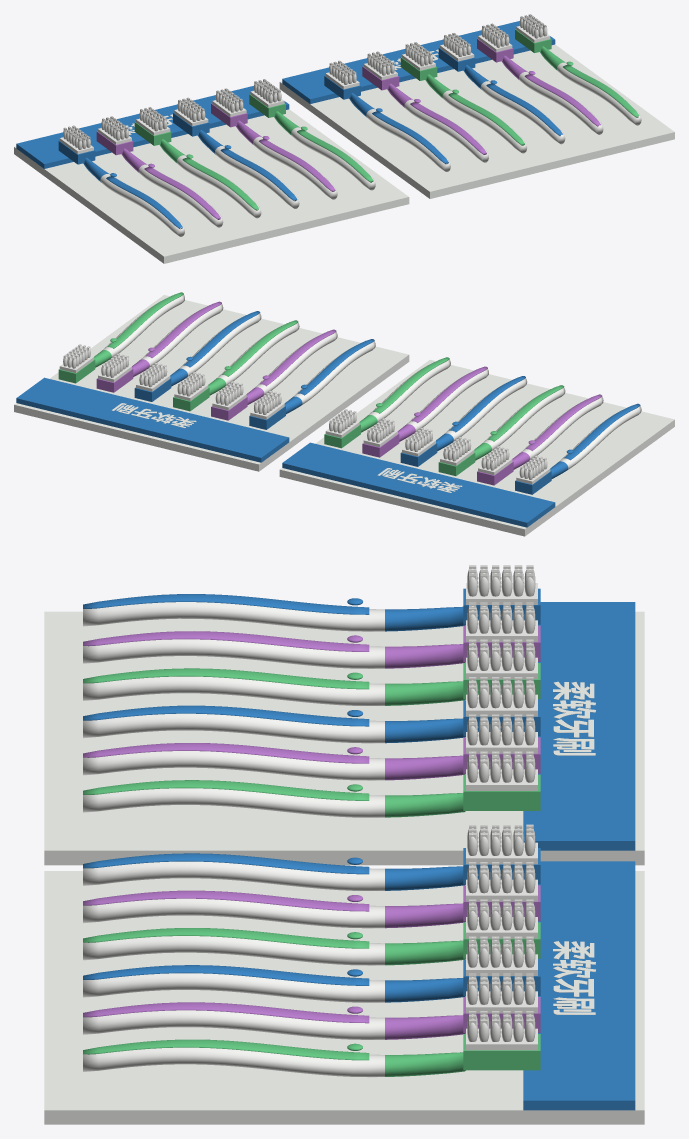
File: brushes.glb
The picture shows the model from 3 angles, top to bottom: view 1: azimuth 30°, elevation 25°; view 2: azimuth 150°, elevation 25°; view 3: azimuth 270°, elevation 25°; orthographic projection. The views are drawn at different scales.
Parts seen in each view (by area): view 1: Board 1 backing, Board 2 backing, Board 1 header, Board 2 header, Brush 2.6 rounded handle, Brush 1.3 rounded handle, Brush 1.1 rounded handle, Brush 2.4 rounded handle, Brush 2.1 rounded handle, Brush 1.5 rounded handle, Brush 2.2 rounded handle, Brush 1.6 rounded handle (+28 smaller); view 2: Board 2 backing, Board 1 backing, Board 1 header, Board 2 header, Brush 1.1 rounded handle, Brush 2.2 rounded handle, Brush 2.4 rounded handle, Brush 1.2 rounded handle, Brush 2.1 rounded handle, Brush 2.3 rounded handle, Brush 1.3 rounded handle, Brush 1.6 rounded handle (+30 smaller); view 3: Board 2 backing, Board 1 backing, Board 2 header, Board 1 header, Brush 2.5 rounded handle, Brush 2.1 rounded handle, Brush 1.3 rounded handle, Brush 2.2 rounded handle, Brush 1.4 rounded handle, Brush 2.6 rounded handle, Brush 1.1 rounded handle, Brush 1.2 rounded handle (+25 smaller).
Boxes of the visible parts, left/top/right/bottom form: Board 1 backing: left=14, top=109, right=409, bottom=263; Board 2 backing: left=279, top=44, right=674, bottom=198; Board 1 header: left=16, top=86, right=289, bottom=168; Board 2 header: left=282, top=21, right=555, bottom=103; Brush 2.6 rounded handle: left=540, top=46, right=641, bottom=125; Brush 1.3 rounded handle: left=159, top=139, right=261, bottom=218; Brush 1.1 rounded handle: left=83, top=157, right=184, bottom=236; Brush 2.4 rounded handle: left=463, top=65, right=565, bottom=144; Brush 2.1 rounded handle: left=349, top=93, right=450, bottom=171; Brush 1.5 rounded handle: left=236, top=120, right=337, bottom=199; Brush 2.2 rounded handle: left=387, top=83, right=488, bottom=162; Brush 1.6 rounded handle: left=274, top=111, right=375, bottom=190; Board 2 backing: left=14, top=295, right=409, bottom=471; Board 1 backing: left=279, top=360, right=674, bottom=536; Board 1 header: left=282, top=442, right=555, bottom=527; Board 2 header: left=16, top=377, right=289, bottom=462; Brush 1.1 rounded handle: left=550, top=406, right=641, bottom=478; Brush 2.2 rounded handle: left=246, top=332, right=337, bottom=404; Brush 2.4 rounded handle: left=170, top=313, right=261, bottom=386; Brush 1.2 rounded handle: left=512, top=397, right=603, bottom=469; Brush 2.1 rounded handle: left=284, top=341, right=375, bottom=414; Brush 2.3 rounded handle: left=208, top=322, right=299, bottom=395; Brush 1.3 rounded handle: left=474, top=387, right=565, bottom=460; Brush 1.6 rounded handle: left=359, top=359, right=450, bottom=432; Board 2 backing: left=44, top=871, right=644, bottom=1124; Board 1 backing: left=44, top=611, right=644, bottom=865; Board 2 header: left=523, top=861, right=635, bottom=1110; Board 1 header: left=523, top=602, right=635, bottom=850; Brush 2.5 rounded handle: left=83, top=1010, right=465, bottom=1039; Brush 2.1 rounded handle: left=83, top=861, right=465, bottom=890; Brush 1.3 rounded handle: left=83, top=676, right=465, bottom=705; Brush 2.2 rounded handle: left=83, top=898, right=465, bottom=928; Brush 1.4 rounded handle: left=83, top=713, right=465, bottom=743; Brush 2.6 rounded handle: left=83, top=1047, right=465, bottom=1077; Brush 1.1 rounded handle: left=83, top=602, right=465, bottom=631; Brush 1.2 rounded handle: left=83, top=639, right=465, bottom=668.
Bounding box in the file's own units: 0.442 × 0.034 × 0.225.
